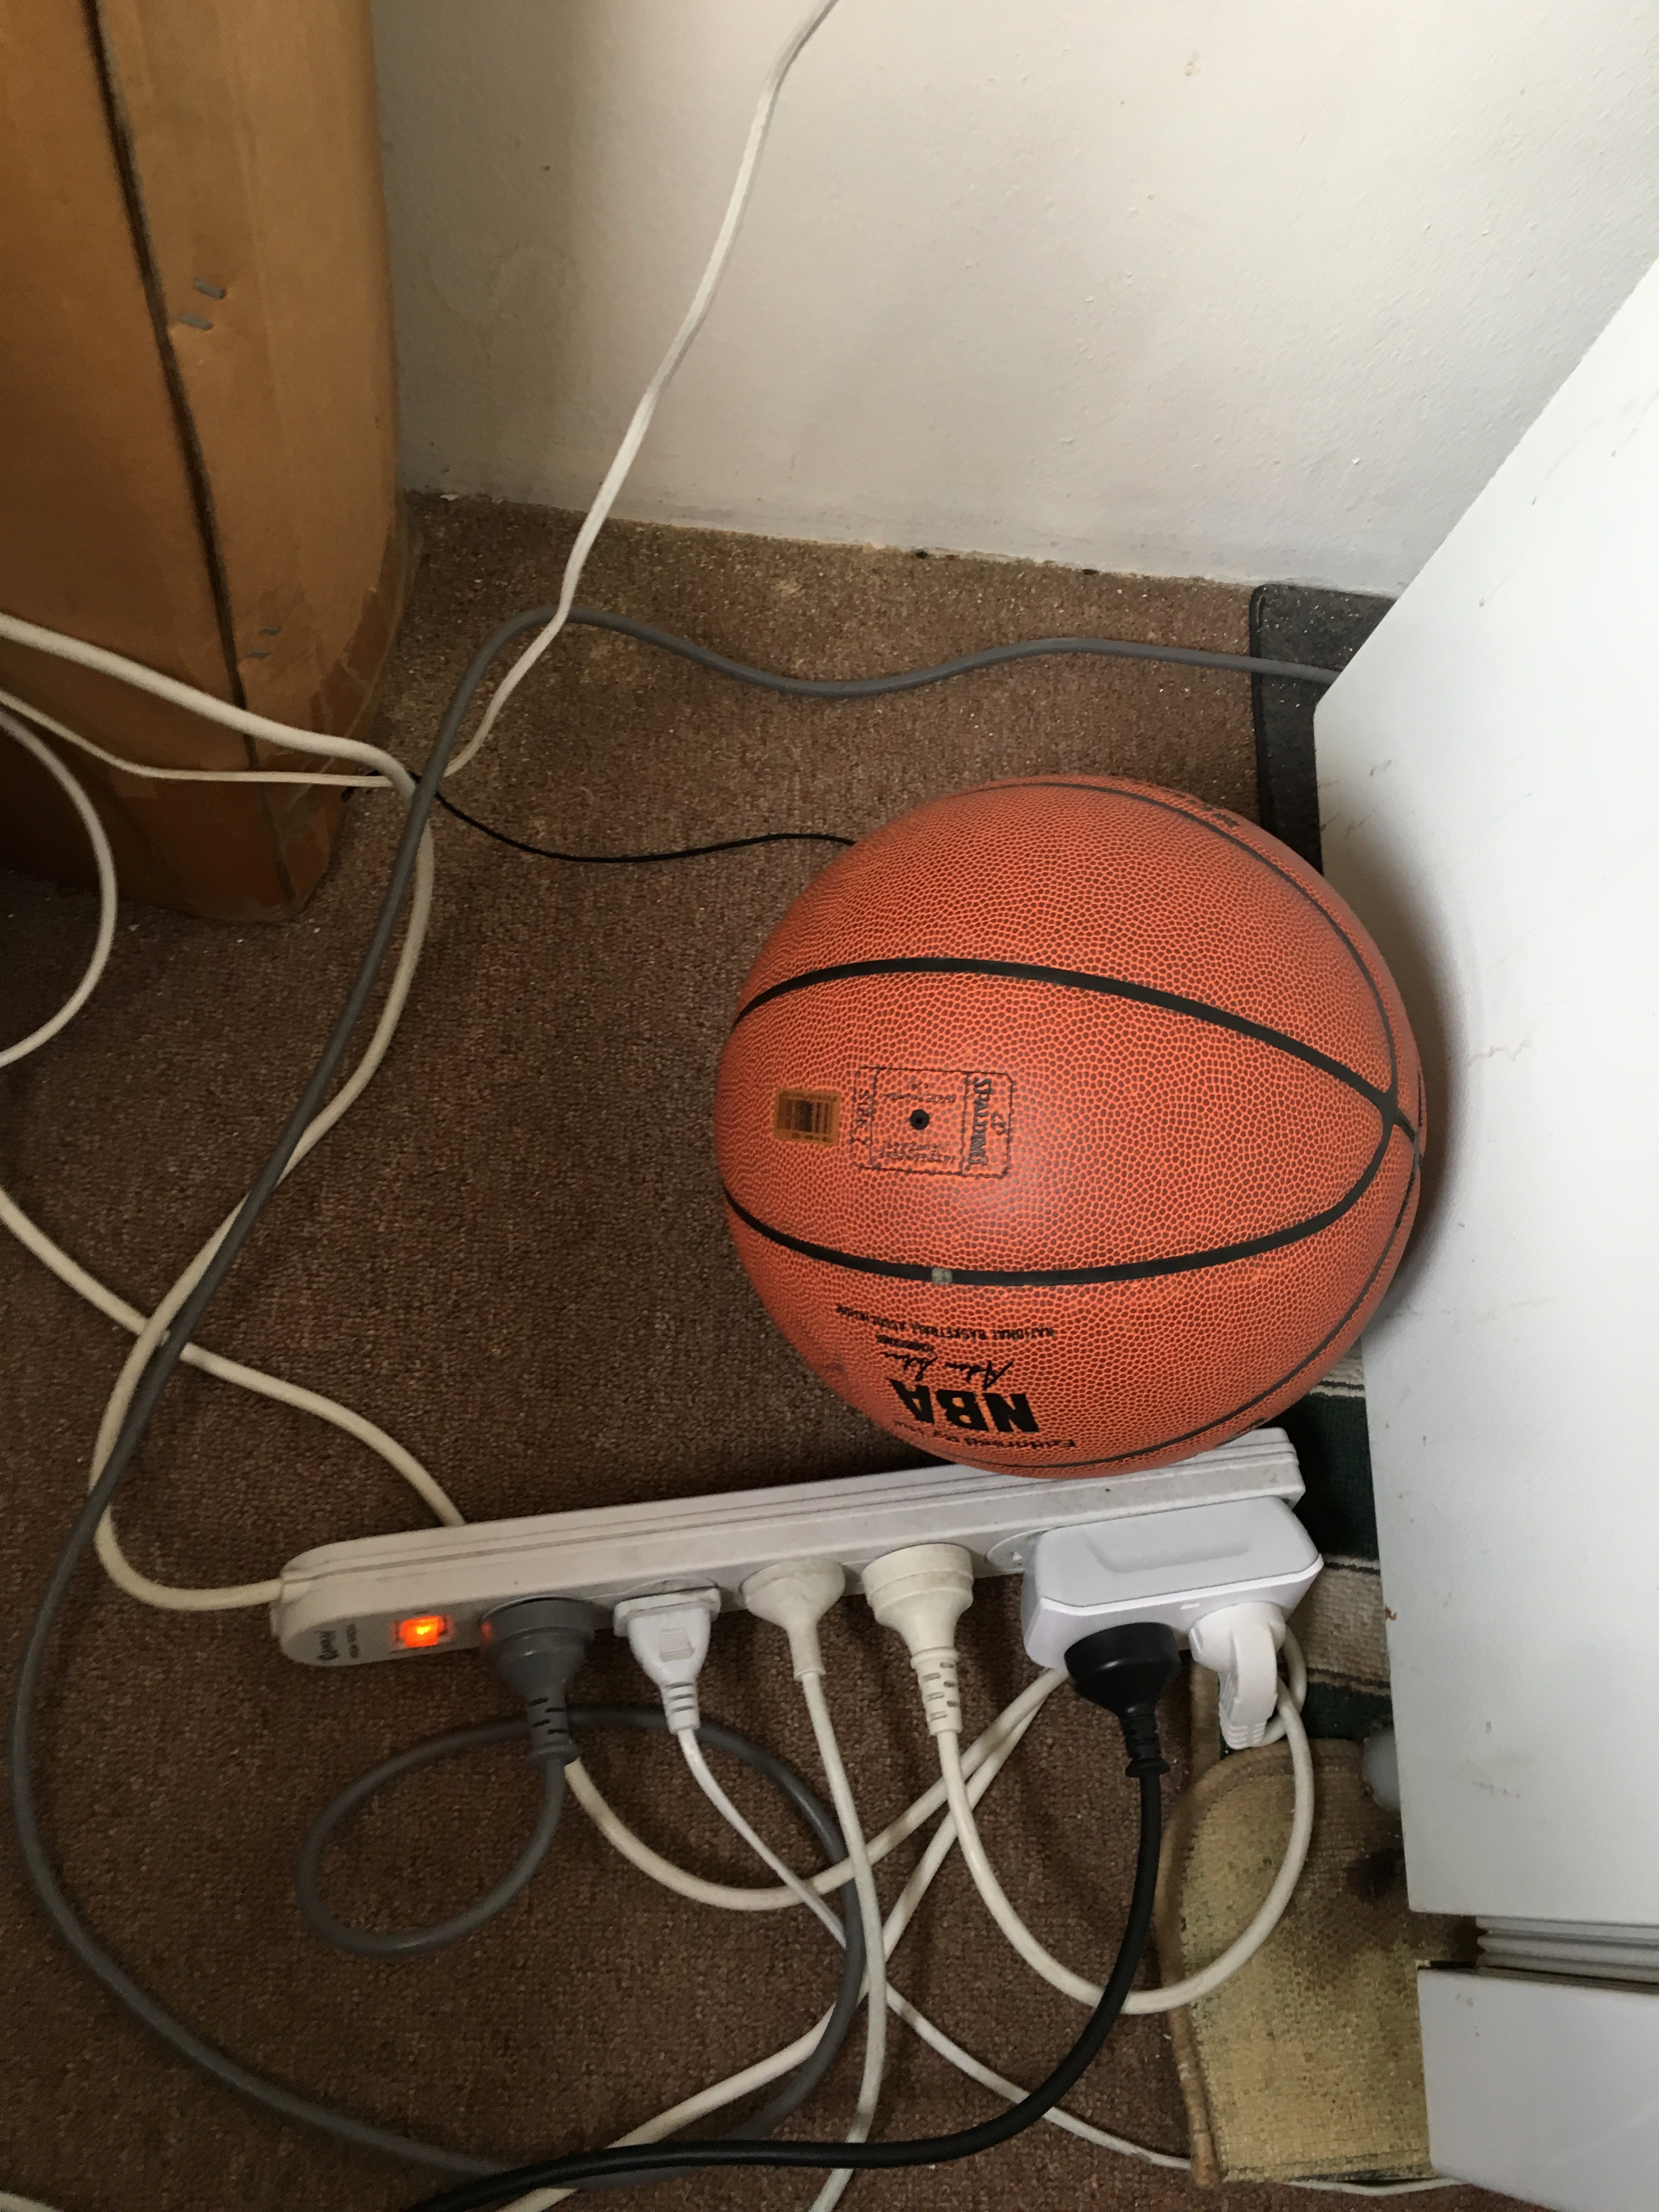Basketball: (699, 745, 1466, 1496)
